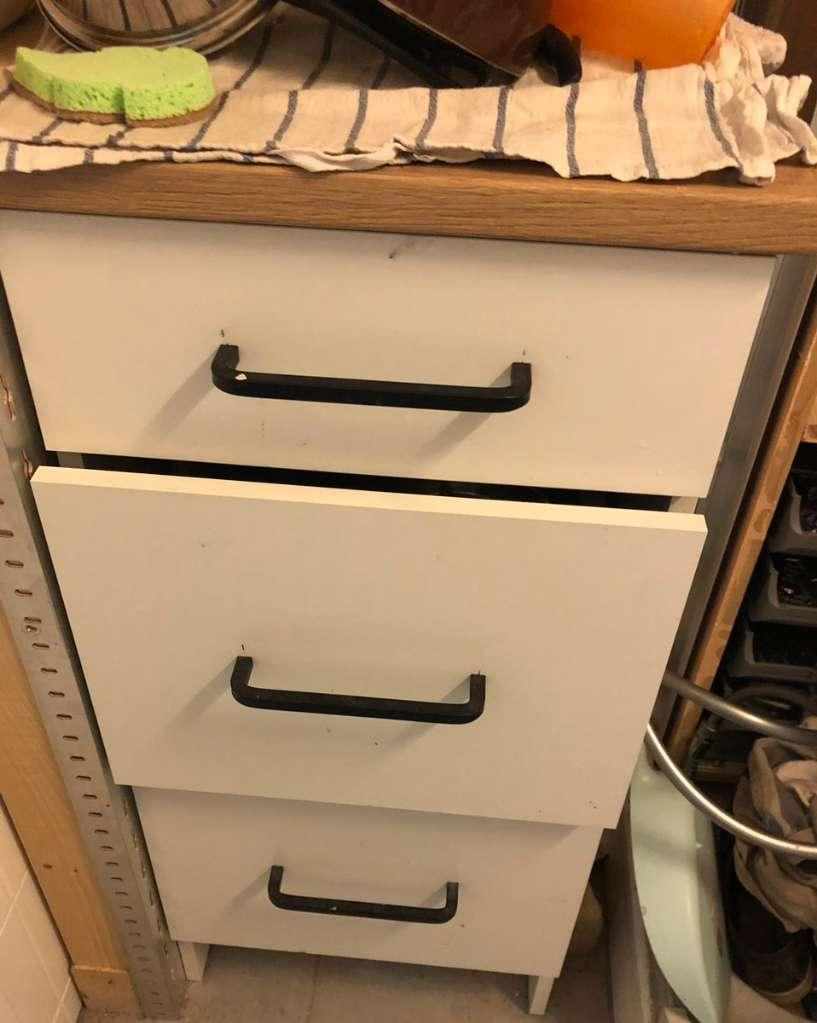cabinet_door: (65, 483, 665, 800), (0, 238, 785, 469), (138, 812, 583, 964)
handle: (189, 336, 542, 424), (223, 646, 490, 732), (262, 860, 463, 926)
